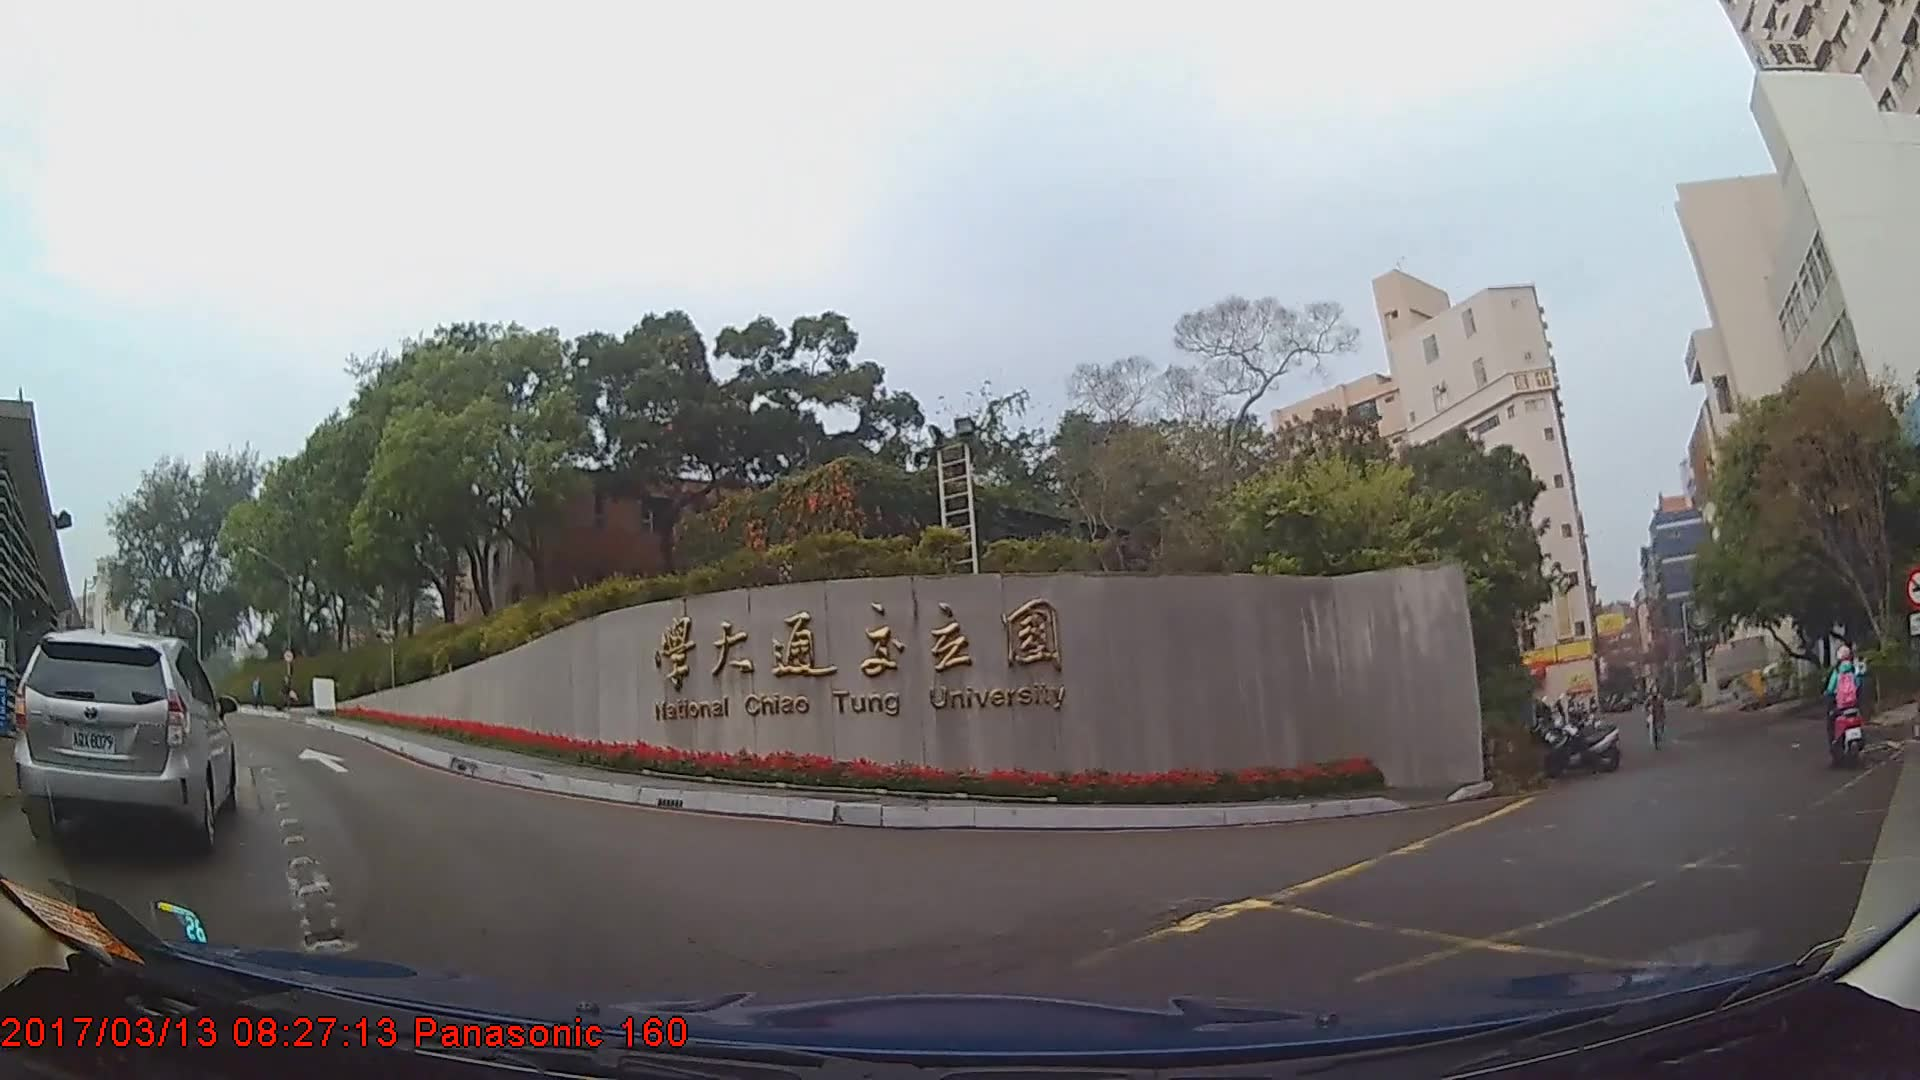pedestrian: (1645, 686, 1668, 751)
rider: (1823, 645, 1870, 772)
vehicle: (12, 627, 234, 855)
